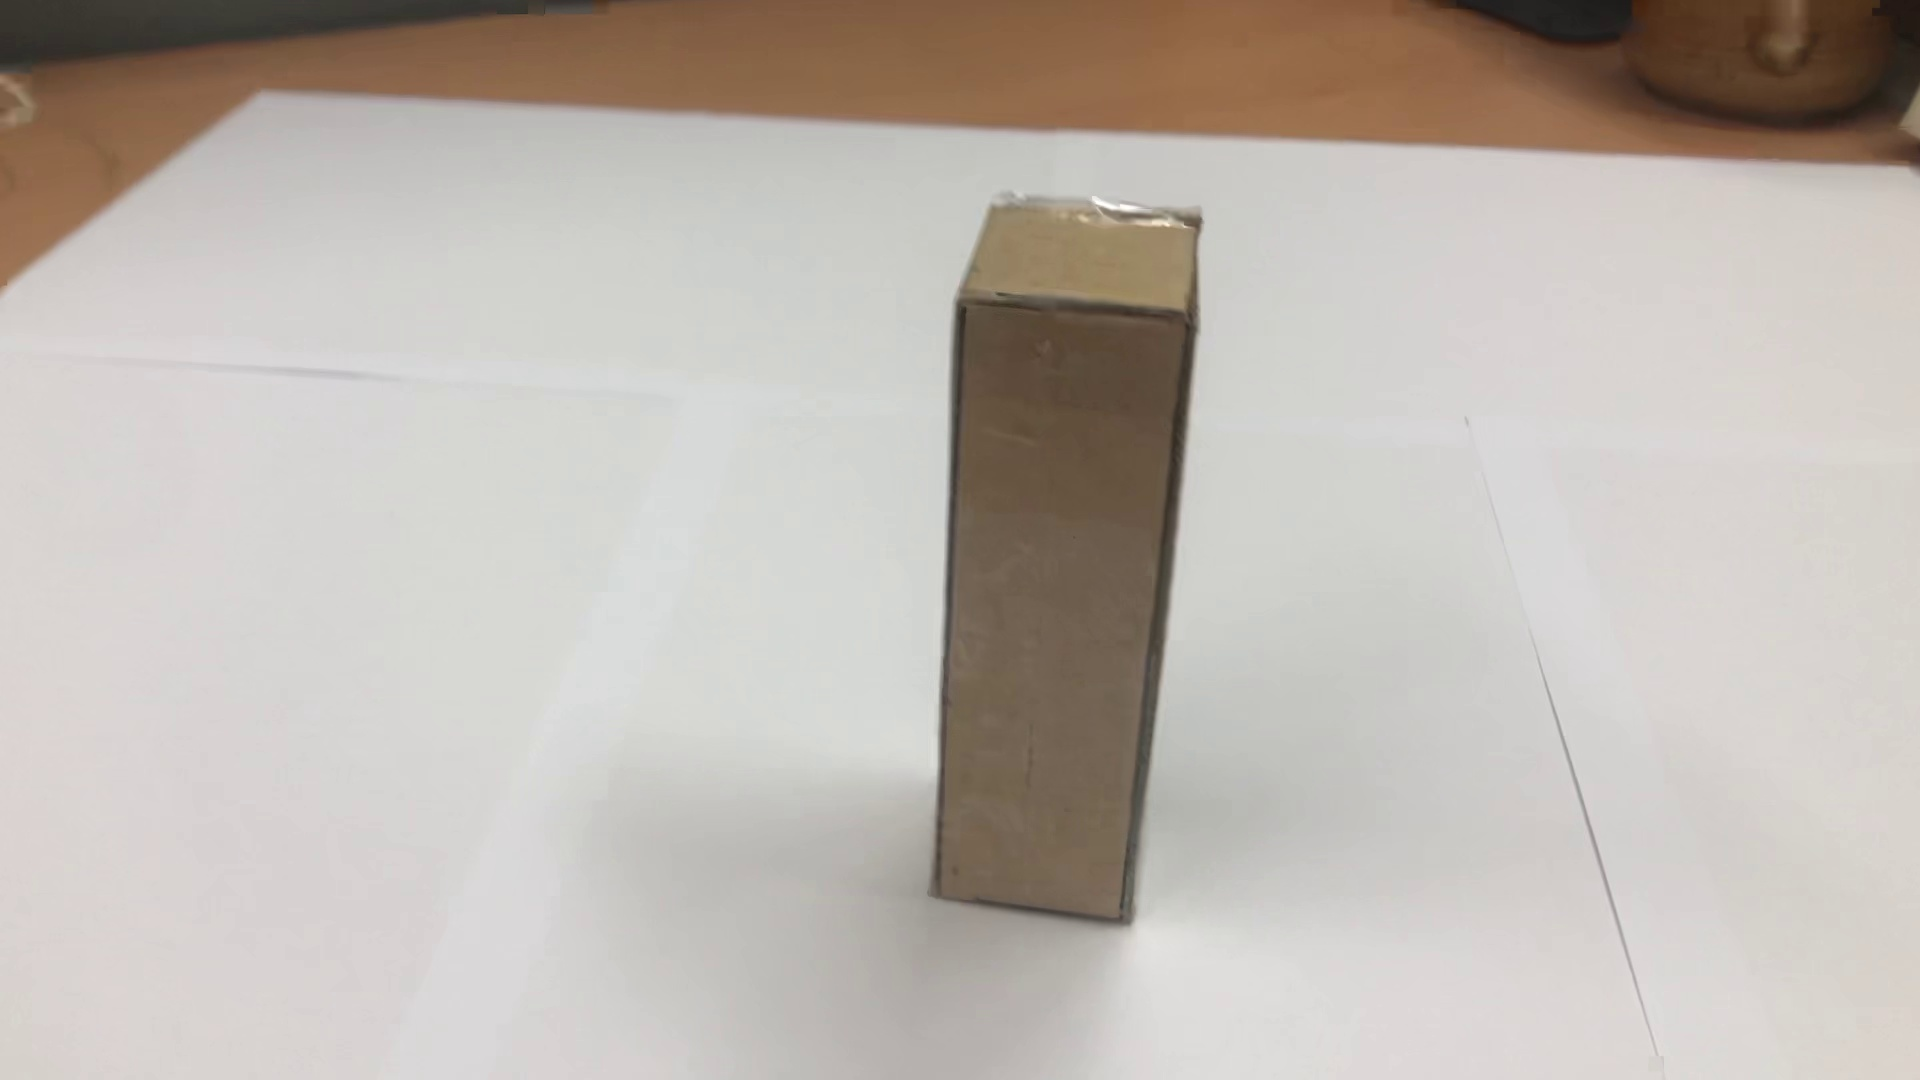box: (905, 167, 1230, 943)
